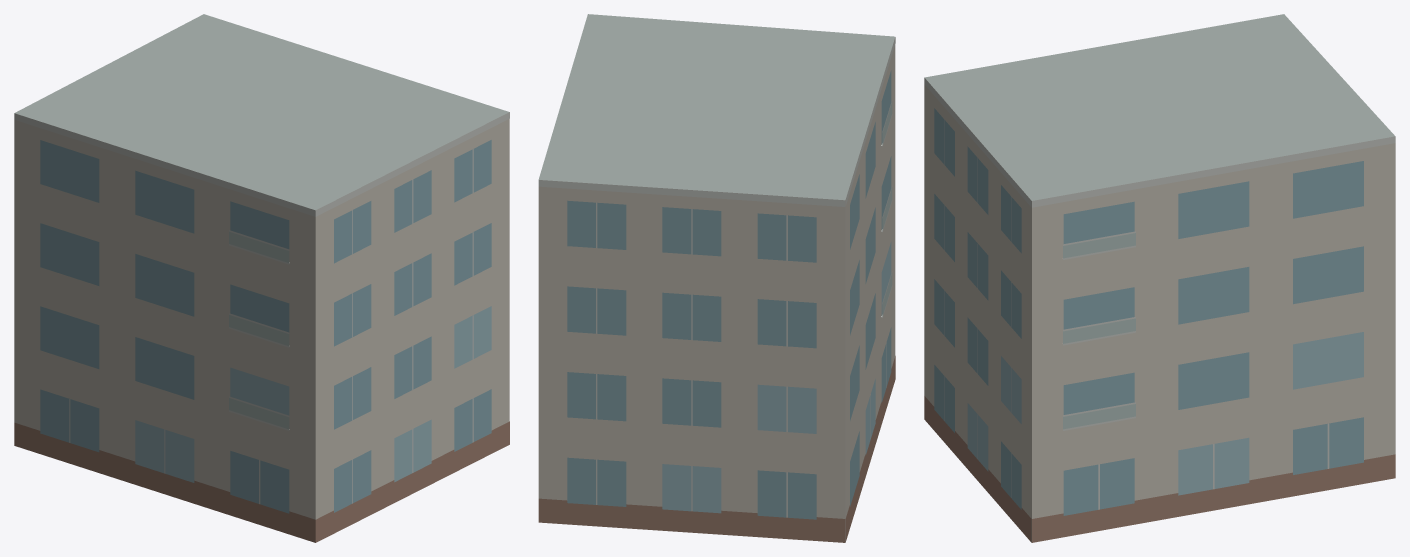
The model's file is survey-upis-32745552.glb.
3 views of the same model, side by side, from view 1: azimuth 30°, elevation 25°; view 2: azimuth 150°, elevation 25°; view 3: azimuth 270°, elevation 25° (orthographic). The views are drawn at different scales.
Visible parts, largest first — view 1: survey-upis-32745552.tmp; view 2: survey-upis-32745552.tmp; view 3: survey-upis-32745552.tmp.
Boxes of the visible parts, x1,y1,x2,y2 form: survey-upis-32745552.tmp: [14, 14, 509, 542]; survey-upis-32745552.tmp: [538, 14, 895, 542]; survey-upis-32745552.tmp: [924, 14, 1395, 542].
Size of the model in its own units: 14.5 by 12.35 by 15.43.
